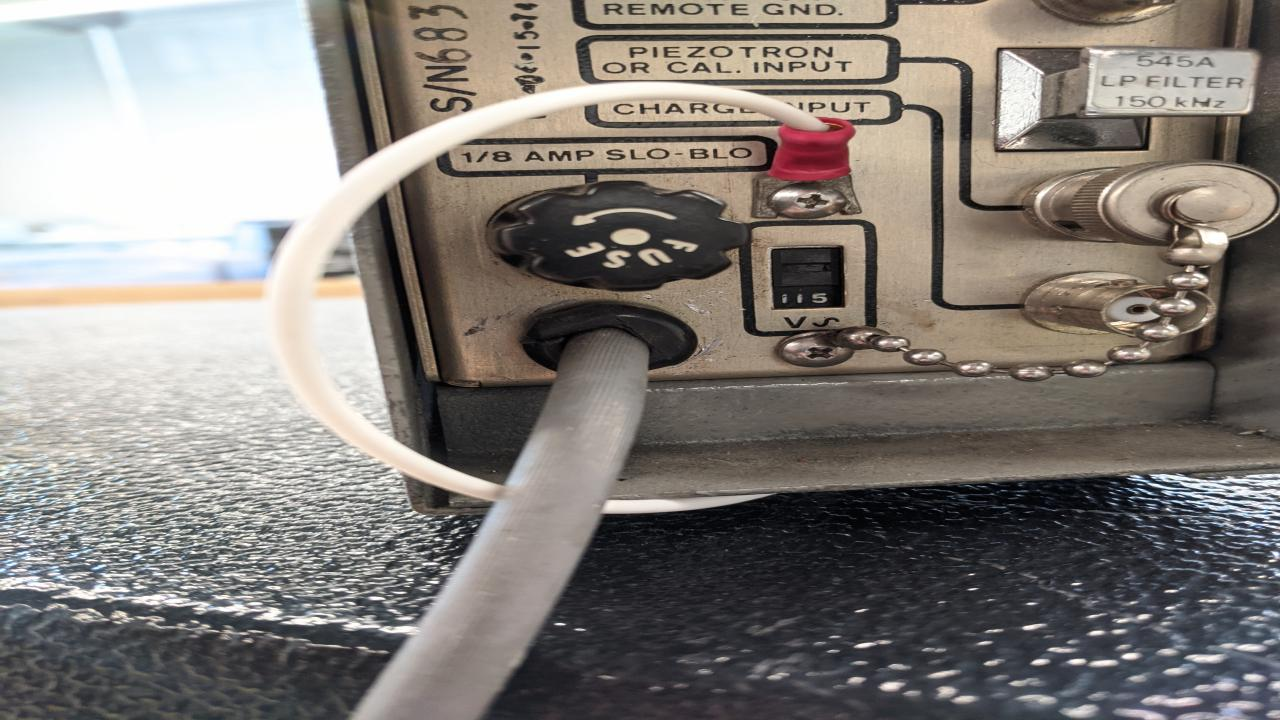CRS: (777, 333, 854, 368), (772, 185, 848, 217)
